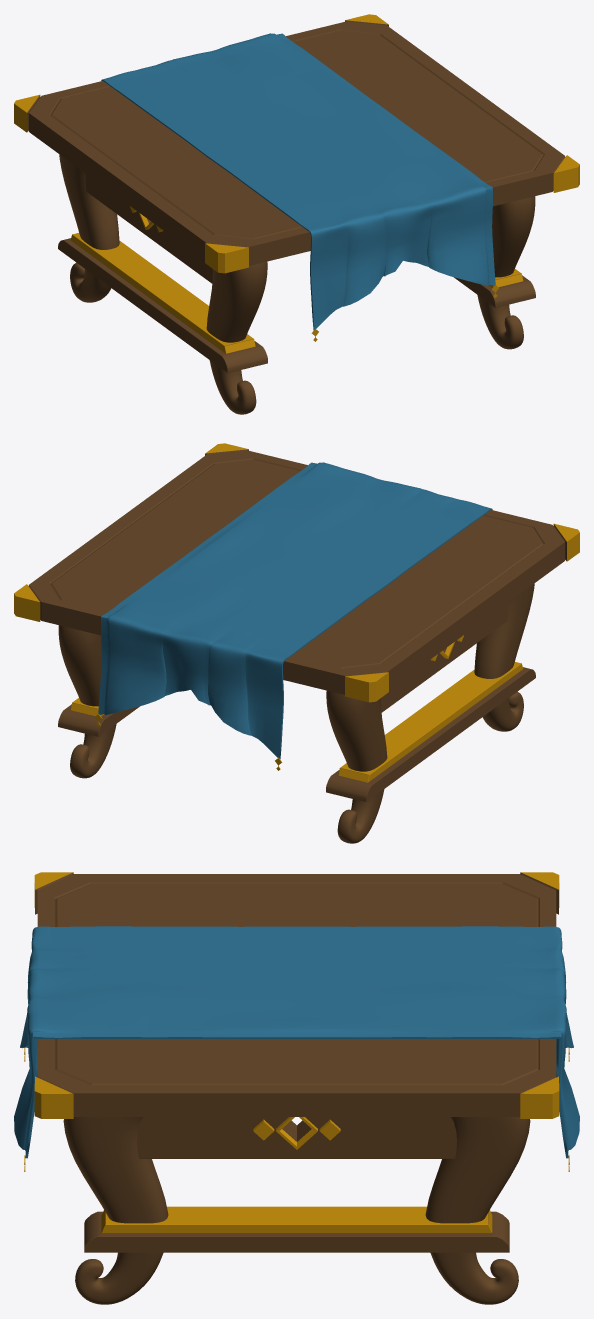
File: (Prop)Wood-Table_01.fbx
The picture shows the model from 3 angles, top to bottom: view 1: azimuth 30°, elevation 25°; view 2: azimuth 150°, elevation 25°; view 3: azimuth 270°, elevation 25°; orthographic projection. The views are drawn at different scales.
Parts seen in each view (by area): view 1: Table Base, Table Cloth; view 2: Table Base, Table Cloth; view 3: Table Base, Table Cloth.
Part boxes in pixels (<box>): Table Base: <box>14,14,579,414</box>; Table Cloth: <box>101,33,498,341</box>; Table Base: <box>14,443,579,843</box>; Table Cloth: <box>95,462,492,770</box>; Table Base: <box>34,872,559,1304</box>; Table Cloth: <box>14,926,579,1171</box>.
Size of the model in its own units: 110 by 56.13 by 119.
